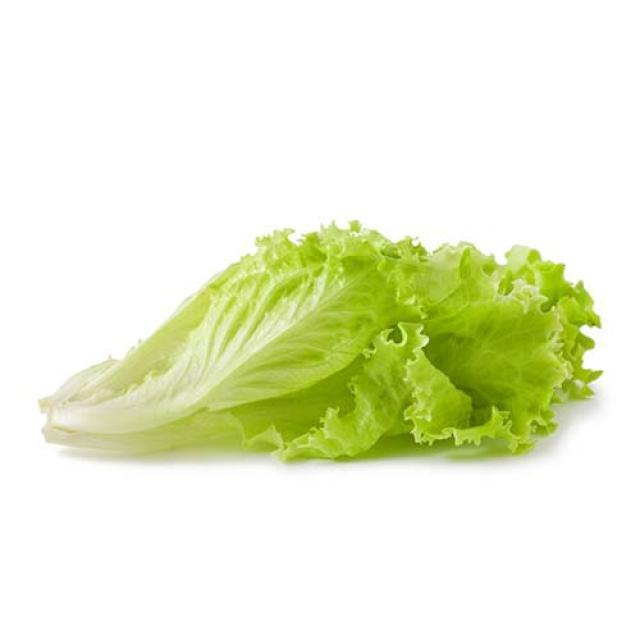Lettuce-Ready-to-Harvest: (40, 222, 600, 460)
